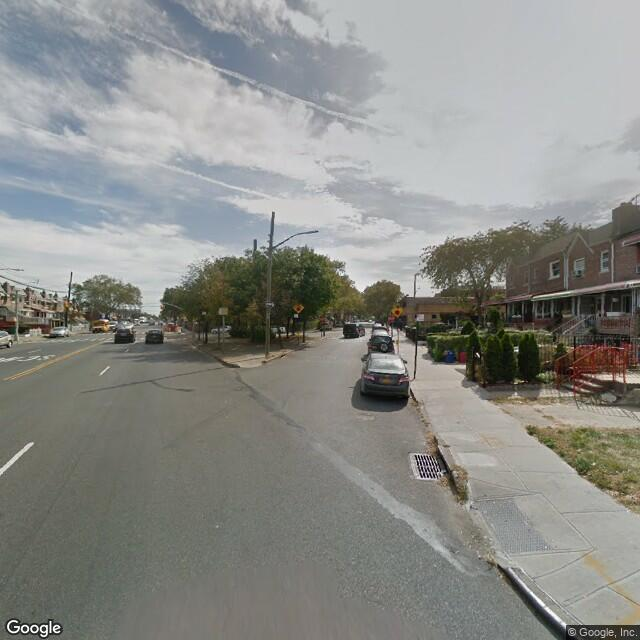litter: (435, 469, 472, 500), (420, 429, 452, 459)
